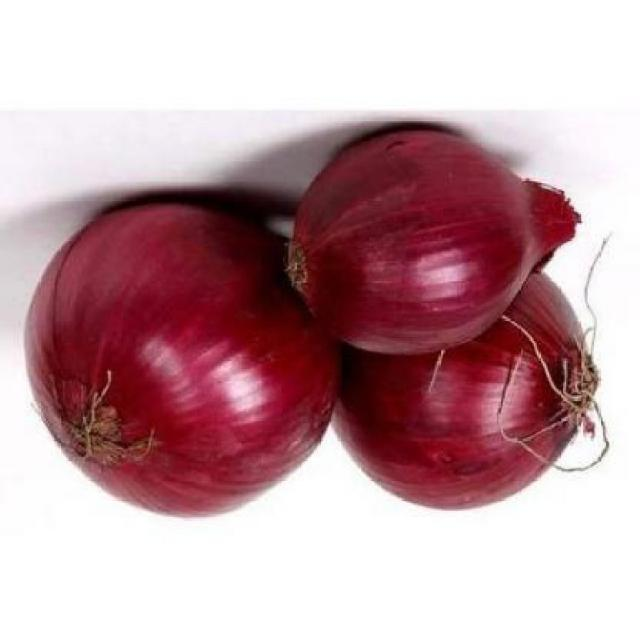onion: (44, 204, 324, 518), (292, 136, 588, 312), (337, 313, 594, 506)
